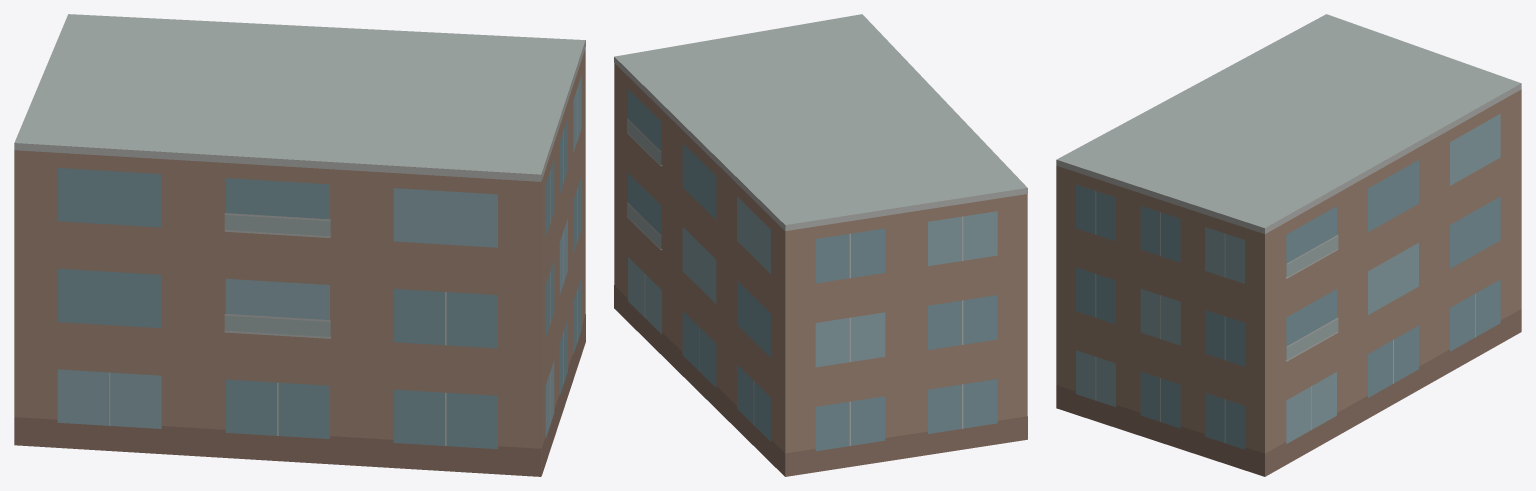
Rendered from survey-upis-32993098.glb.
The picture shows the model from 3 angles, left to right: view 1: azimuth 30°, elevation 25°; view 2: azimuth 150°, elevation 25°; view 3: azimuth 270°, elevation 25°; orthographic projection. The views are drawn at different scales.
Visible parts, largest first — view 1: survey-upis-32993098.tmp; view 2: survey-upis-32993098.tmp; view 3: survey-upis-32993098.tmp.
Part boxes in pixels (bbox=[...]): survey-upis-32993098.tmp: bbox=[14, 14, 585, 476]; survey-upis-32993098.tmp: bbox=[614, 14, 1027, 476]; survey-upis-32993098.tmp: bbox=[1056, 14, 1521, 476].
Size of the model in its own units: 18.87 by 10.2 by 17.31.
